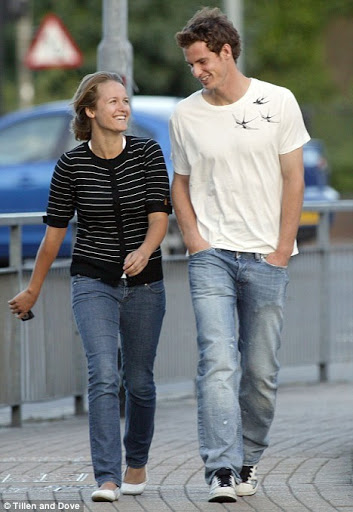Person: (9, 71, 172, 503), (171, 8, 310, 503)
